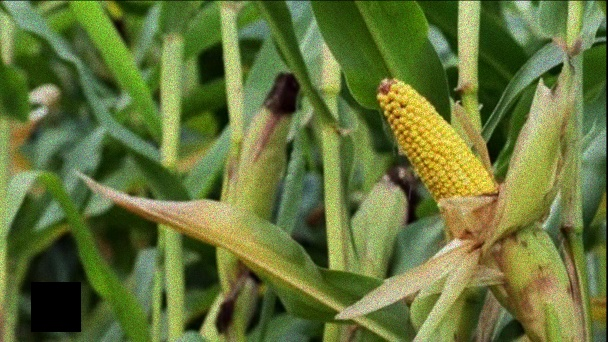corn: (371, 78, 514, 246)
corn_plant: (202, 63, 311, 288)
